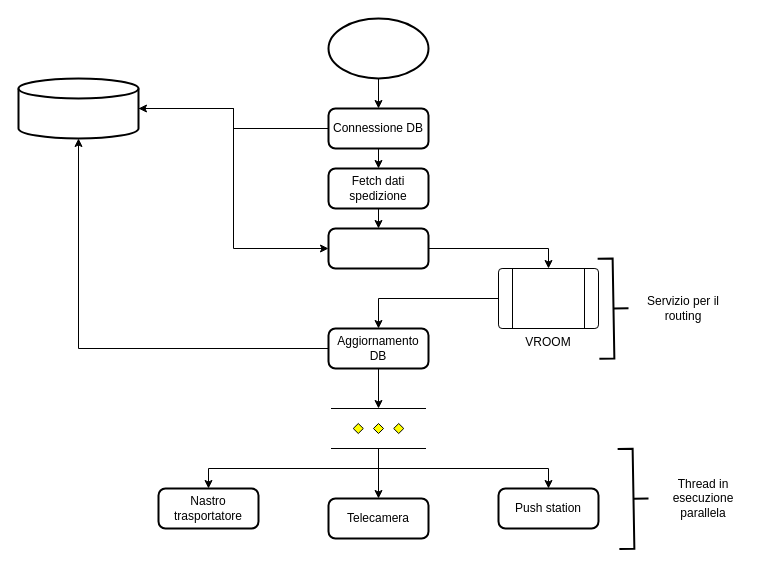
This 765x567 diagram has some shape labels left out. Each missing label, with the centre of its shape:
"centro_smistamento" belongs at (x=78, y=108).
"Creazione request" belongs at (x=378, y=248).
"start" belongs at (x=378, y=48).
